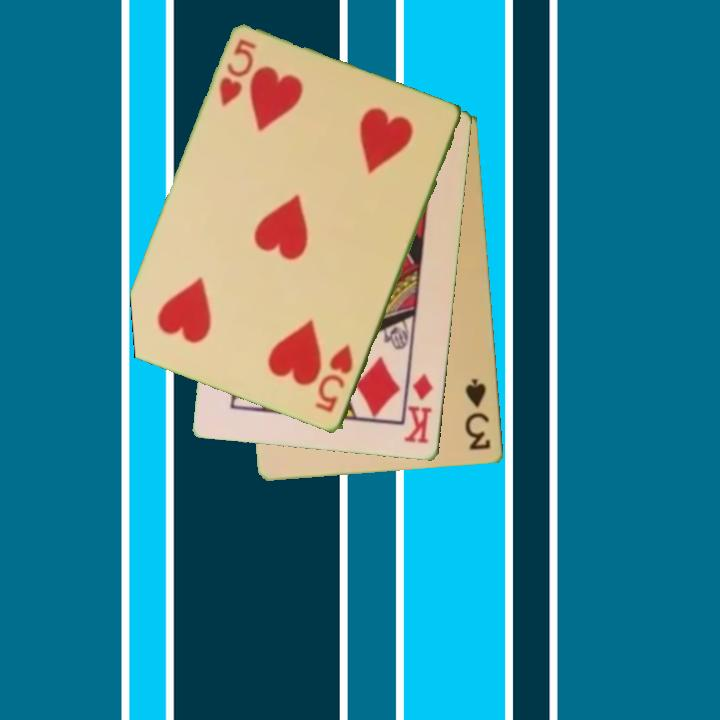3s: (462, 375, 494, 454)
5h: (312, 341, 357, 416), (215, 36, 259, 110)
Kd: (401, 371, 436, 447)
